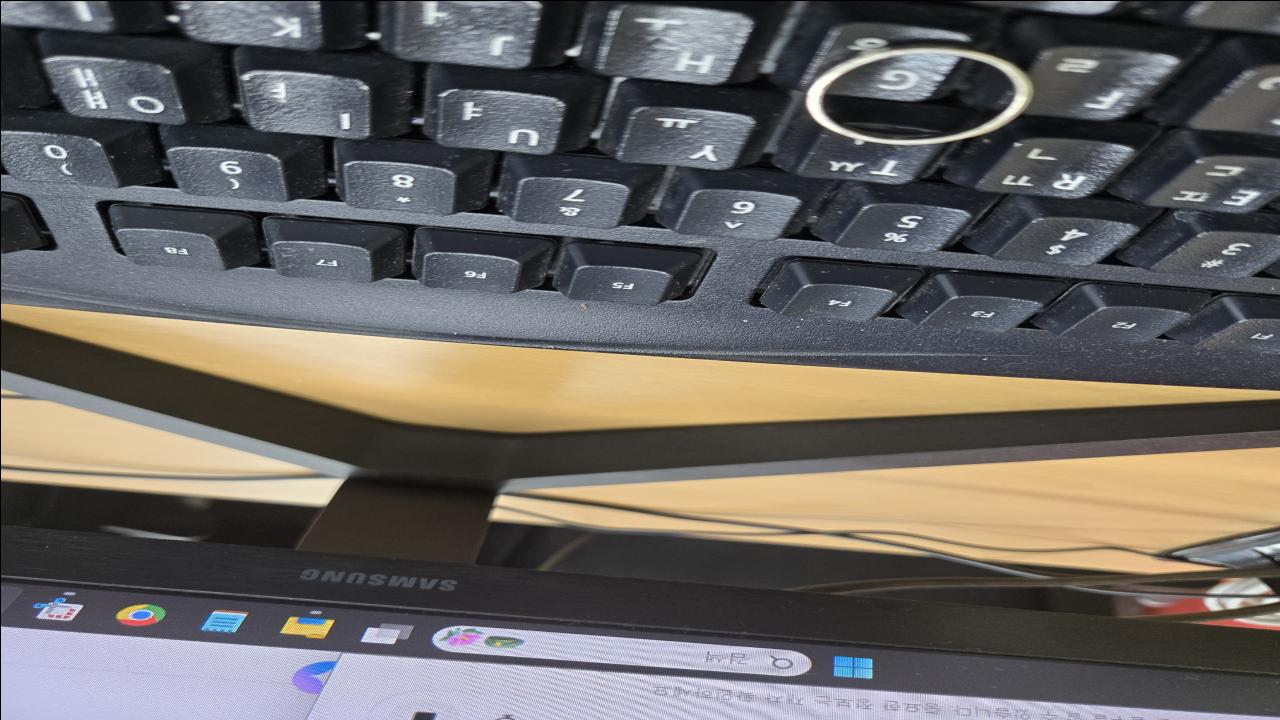ring: (801, 39, 1034, 145)
